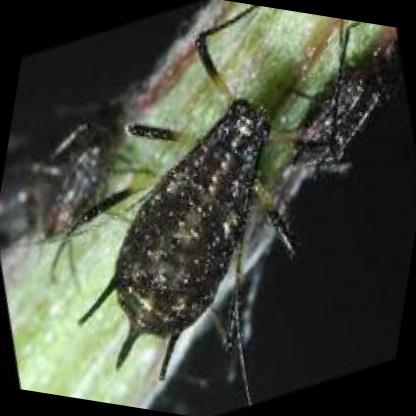uroleucon compositae: (76, 7, 324, 406)
